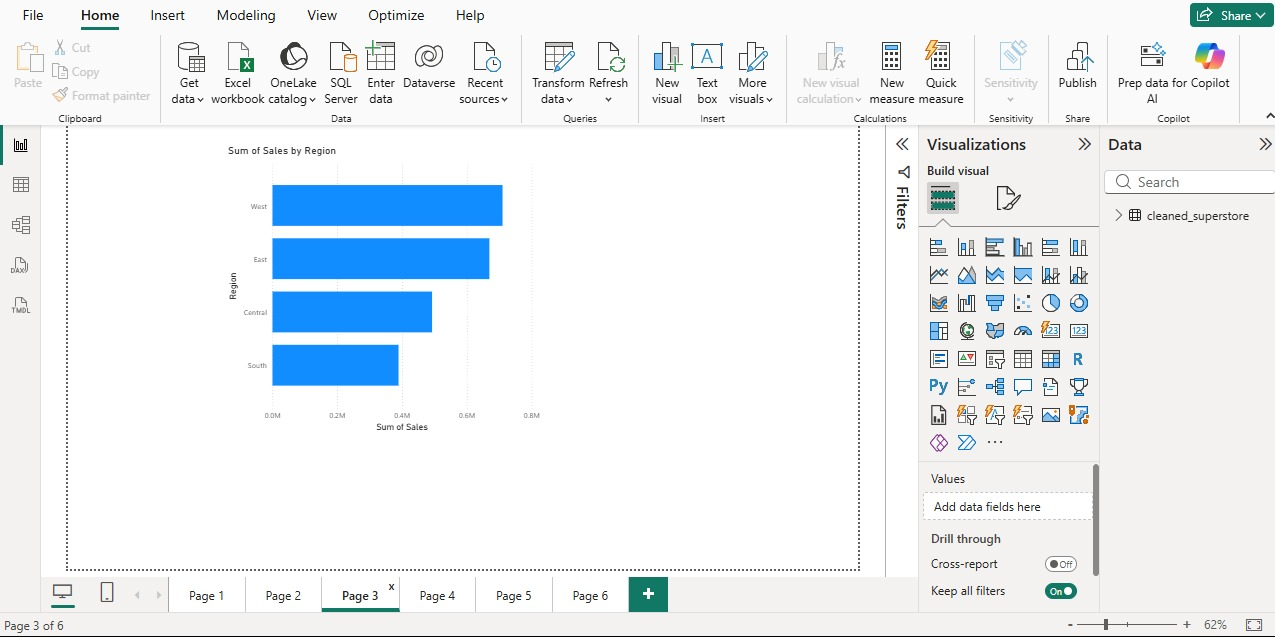

What the dashboard file says about the page in this screenshot:
{"tool":"powerbi","page":{"name":"Page 3","canvas":[1280,720],"ordinal":2},"visuals":[{"type":"clusteredBarChart","fields":{"Category":["cleaned_superstore.Region"],"Y":["Sum(cleaned_superstore.Sales)"]},"box":[255,31.2,516.2,471.2],"z":0}]}

Visuals, with their boxes on the page's 1280x720 design canvas (x1, y1, x2, y2). These are canvas units, not pixel positions in the 1275x637 screenshot, which may show the page scaled, cropped or inside an application window:
clusteredBarChart - cleaned_superstore.Region x Sum(cleaned_superstore.Sales): box=[255, 31, 771, 502]
